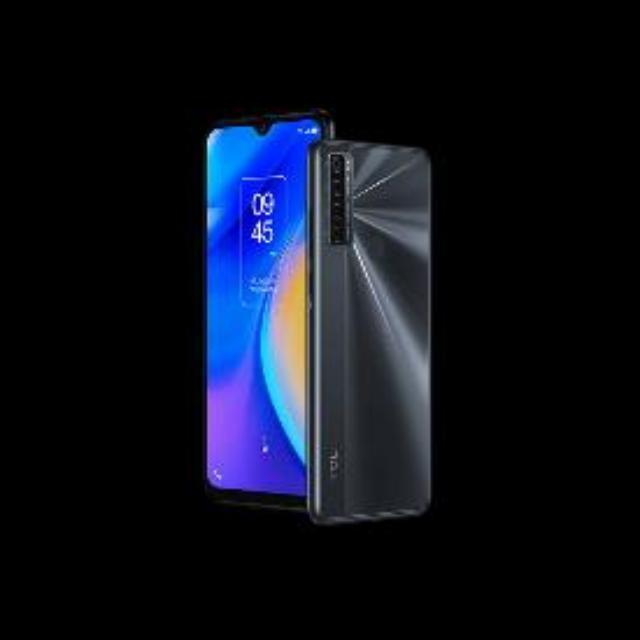PhoneUse: (314, 136, 436, 524), (204, 111, 308, 513)
